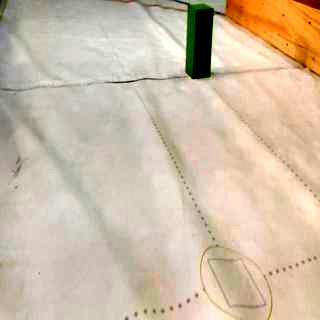greenbox: (186, 1, 213, 78)
